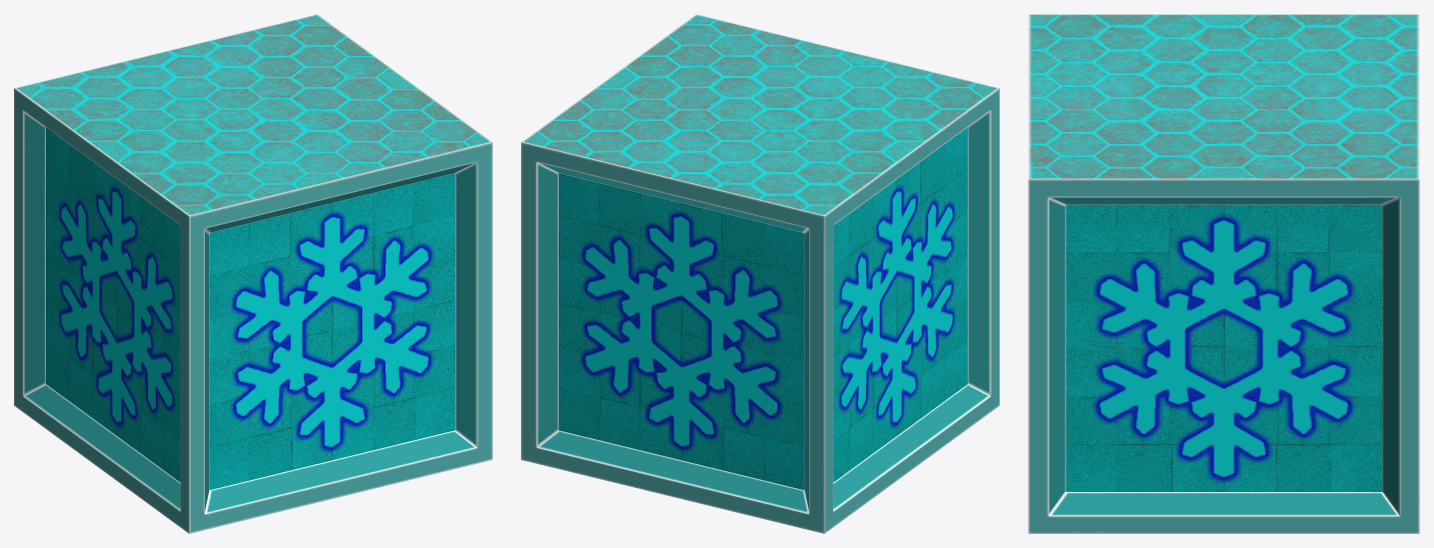
Rendered from CubeCold.fbx.
The picture shows the model from 3 angles, left to right: view 1: azimuth 30°, elevation 25°; view 2: azimuth 150°, elevation 25°; view 3: azimuth 270°, elevation 25°; orthographic projection. The views are drawn at different scales.
Visible parts, largest first — view 1: Cube; view 2: Cube; view 3: Cube.
Boxes of the visible parts, bbox=[...] form: Cube: bbox=[14, 14, 492, 533]; Cube: bbox=[521, 14, 999, 533]; Cube: bbox=[1028, 14, 1419, 533].
Bounding box in the file's own units: 200 × 200 × 200.
